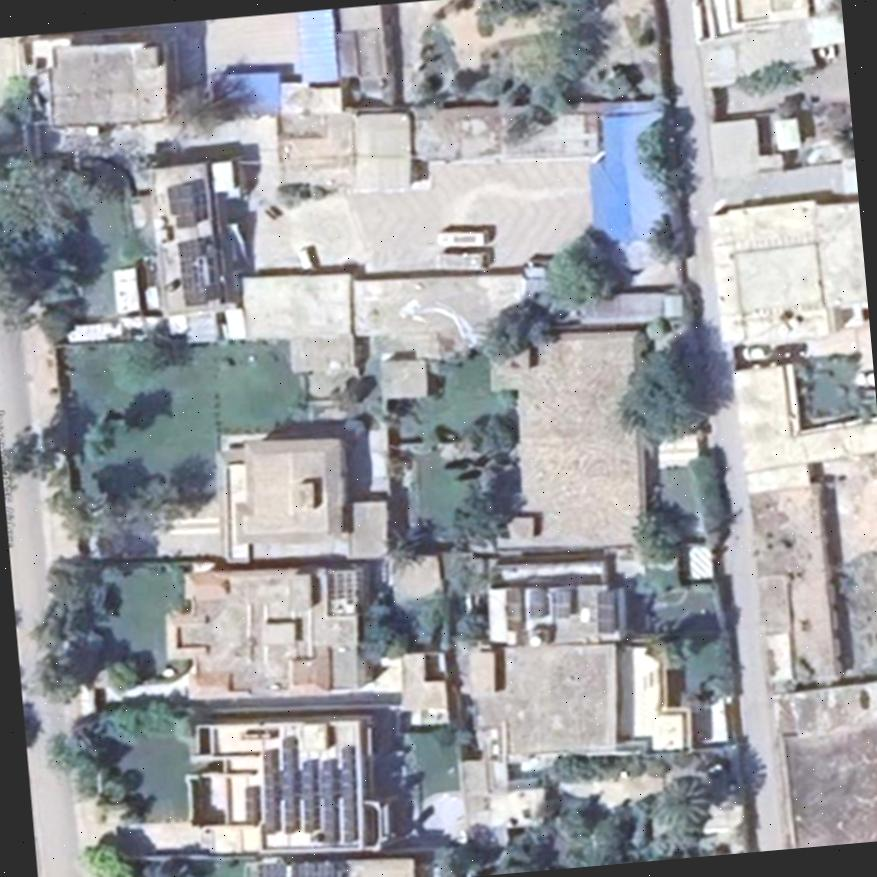Solarpanel: (177, 240, 205, 304), (280, 737, 295, 834), (262, 749, 279, 833), (167, 182, 195, 230), (319, 758, 333, 842), (340, 745, 352, 841), (300, 762, 314, 832), (595, 592, 616, 633), (545, 589, 571, 619), (245, 782, 259, 824), (292, 865, 336, 877), (254, 863, 285, 877)
